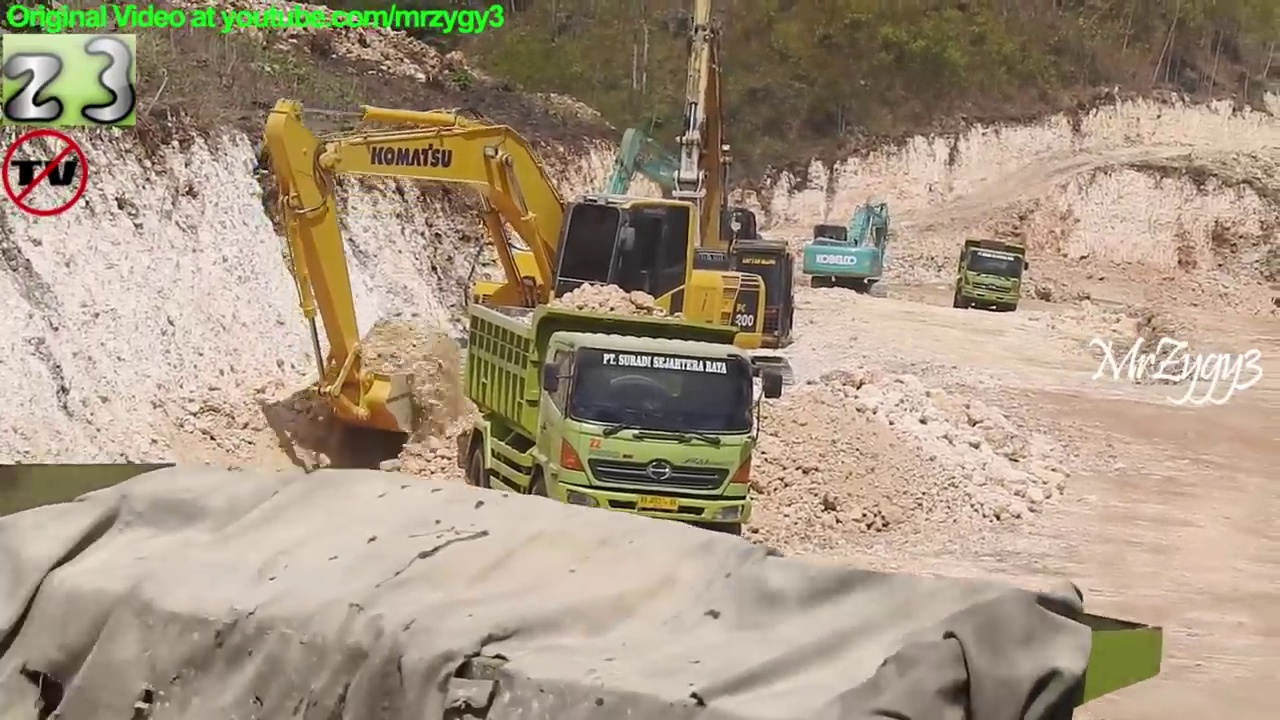excavator: (234, 98, 767, 443), (507, 1, 799, 406), (800, 196, 895, 296)
truck: (1, 465, 1175, 720), (461, 298, 786, 571), (953, 233, 1034, 316)
